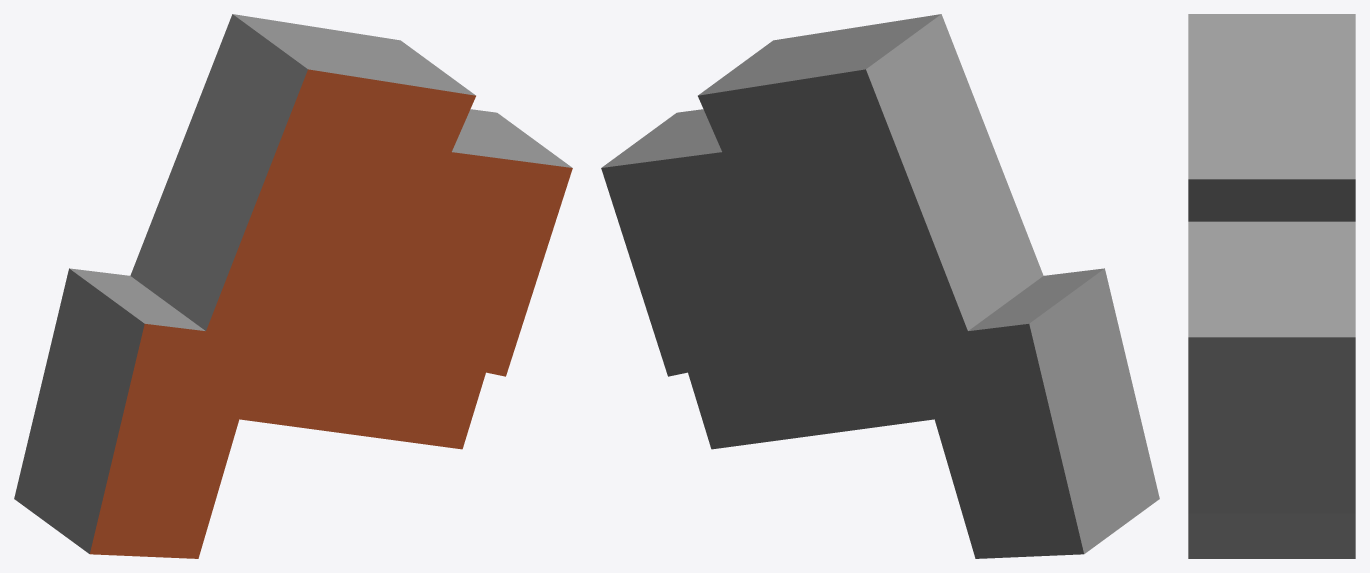
File: construction_4394_assumed_A_Casa_h6m.obj
3 renders of one model, left to right at view 1: azimuth 30°, elevation 25°; view 2: azimuth 150°, elevation 25°; view 3: azimuth 270°, elevation 25°, orthographic. The views are drawn at different scales.
Visible parts, largest first — view 1: construction_4394_assumed_A_Casa; view 2: construction_4394_assumed_A_Casa; view 3: construction_4394_assumed_A_Casa.
Boxes of the visible parts, left/top/right/bottom form: construction_4394_assumed_A_Casa: left=14, top=14, right=572, bottom=558; construction_4394_assumed_A_Casa: left=601, top=14, right=1159, bottom=558; construction_4394_assumed_A_Casa: left=1188, top=14, right=1355, bottom=558.
Size of the model in its own units: 22.12 by 20.26 by 6.
